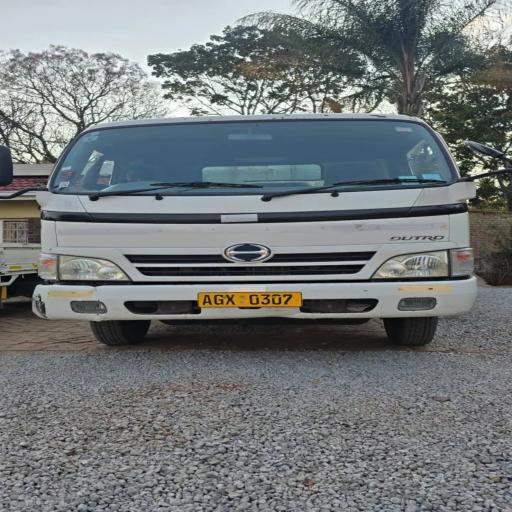number-plates: (194, 288, 304, 308)
